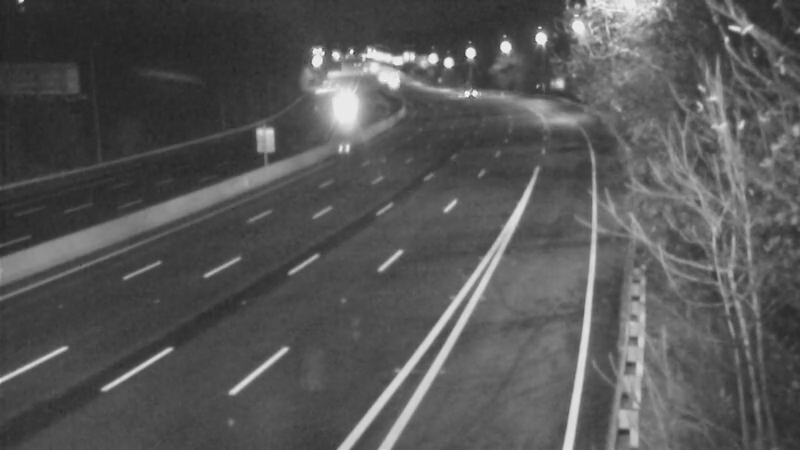vehicle: (441, 64, 491, 114), (317, 84, 367, 134)
